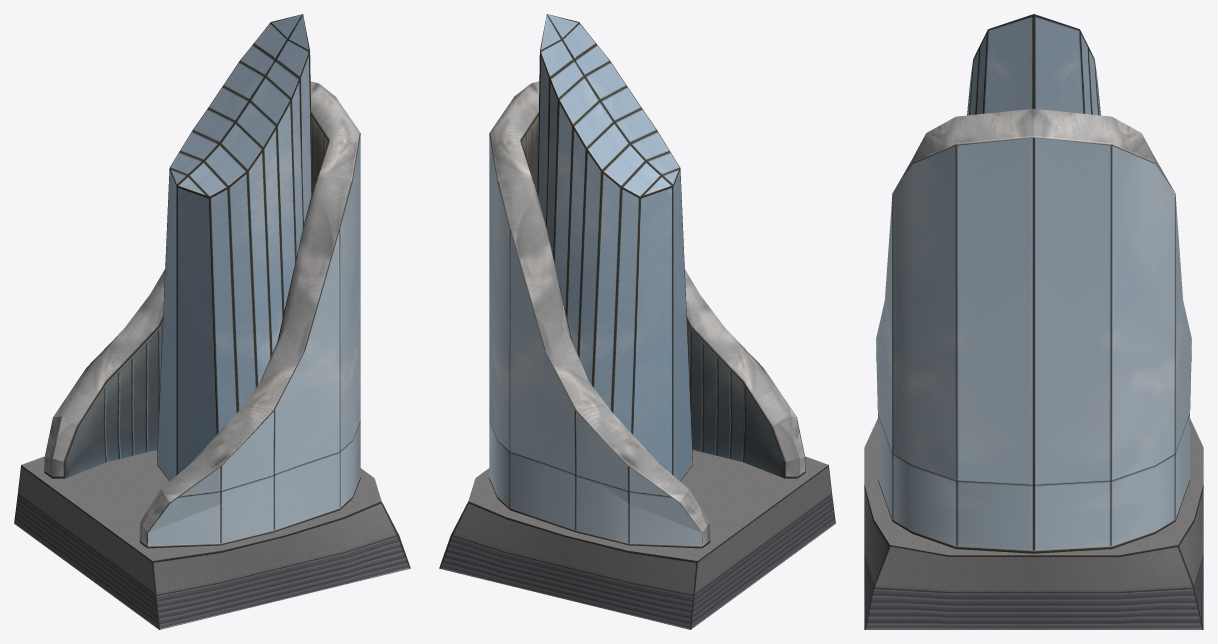
The model's file is Building_Top_04.dae.
3 views of the same model, side by side, from view 1: azimuth 30°, elevation 25°; view 2: azimuth 150°, elevation 25°; view 3: azimuth 270°, elevation 25° (orthographic). The views are drawn at different scales.
Parts seen in each view (by area): view 1: Building_Top_04; view 2: Building_Top_04; view 3: Building_Top_04.
Boxes of the visible parts, x1,y1,x2,y2 form: Building_Top_04: [14, 14, 410, 629]; Building_Top_04: [439, 14, 835, 629]; Building_Top_04: [864, 14, 1203, 629].
Bounding box in the file's own units: 45.04 × 87.26 × 45.04.
